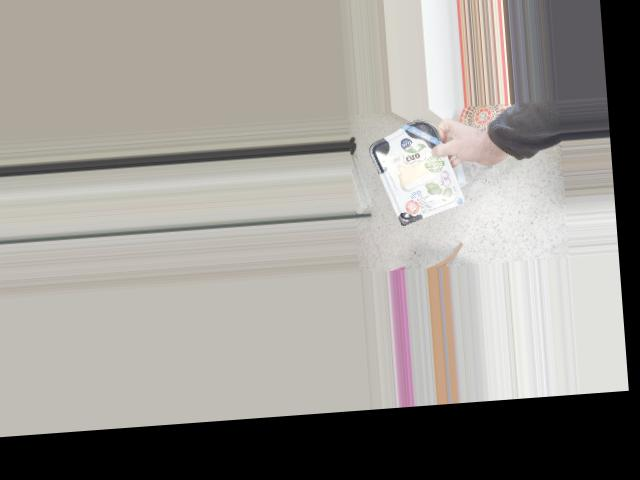cheese: (376, 125, 450, 220)
